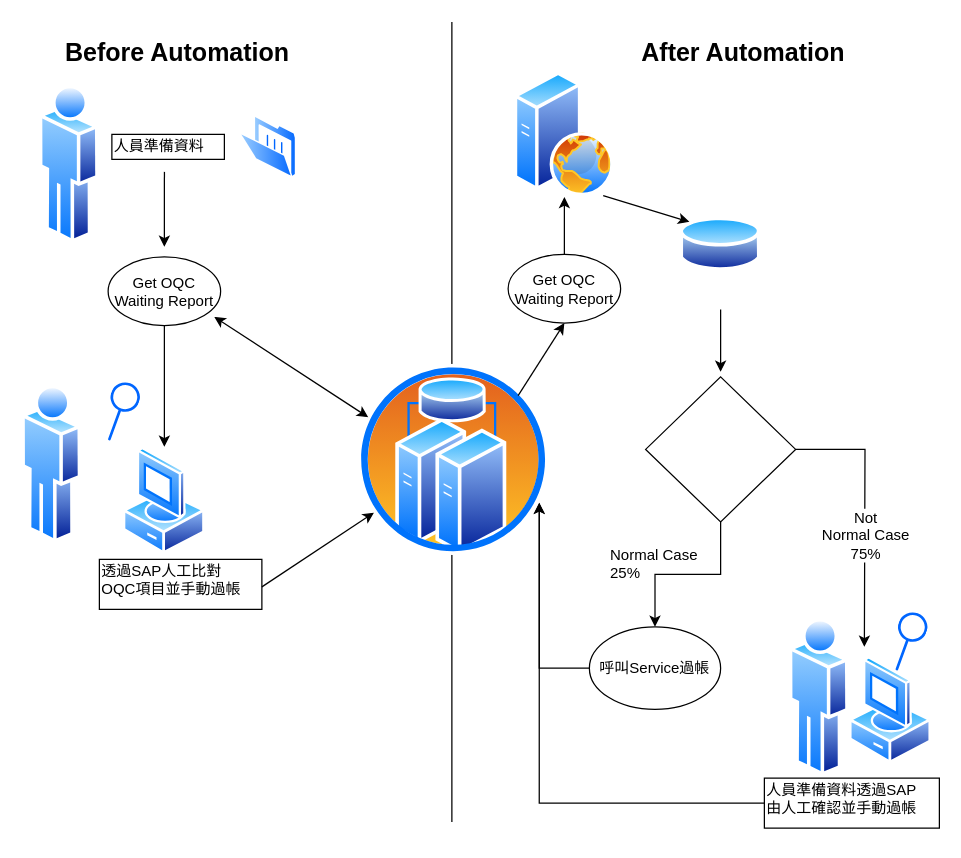
The diagram is 961 pixels wide and 858 high, and some of its shapes have lost their labels. Each missing label, with the centre of its shape:
"AutoOQC Job" goes at pixel 720 244.
"S A P" goes at pixel 453 459.
"判斷是否為 Normal 出貨" goes at pixel 720 449.
